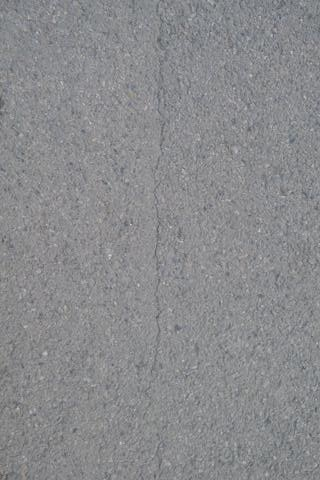A: (150, 1, 172, 383)
